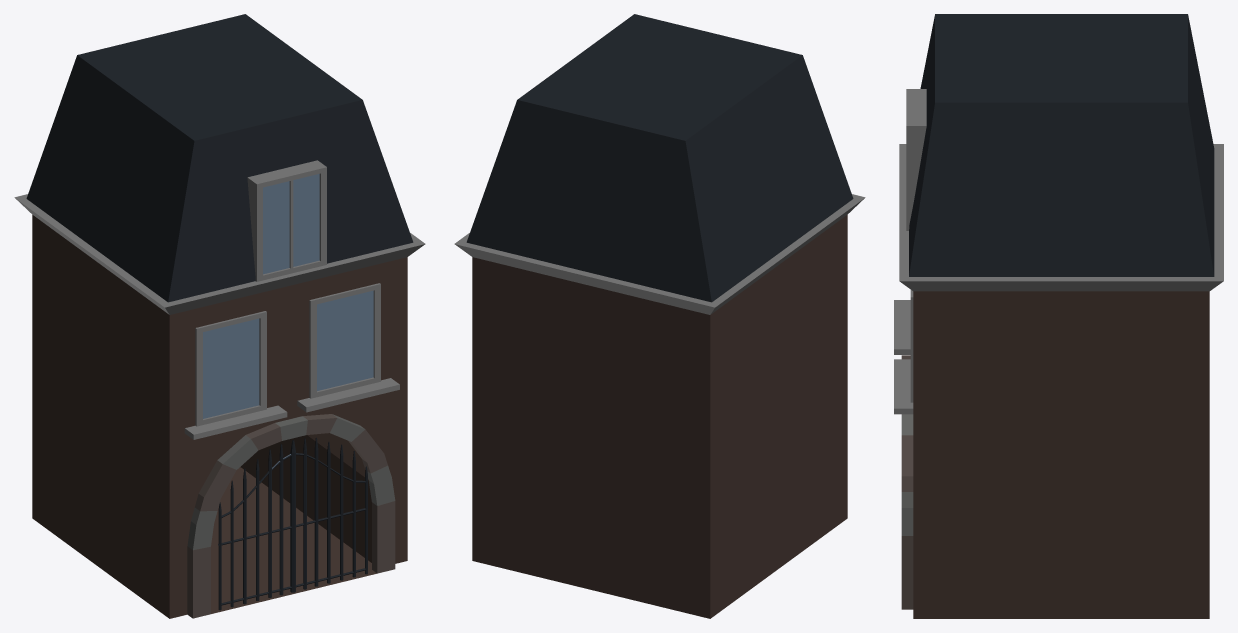
The model's file is House4Level3.fbx.
3 views of the same model, side by side, from view 1: azimuth 30°, elevation 25°; view 2: azimuth 150°, elevation 25°; view 3: azimuth 270°, elevation 25° (orthographic). The views are drawn at different scales.
Parts seen in each view (by area): view 1: House4Lvl3.001; view 2: House4Lvl3.001; view 3: House4Lvl3.001.
Boxes of the visible parts, left/top/right/bottom form: House4Lvl3.001: left=14, top=14, right=425, bottom=618; House4Lvl3.001: left=454, top=14, right=865, bottom=618; House4Lvl3.001: left=894, top=14, right=1223, bottom=618.
Size of the model in its own units: 76.54 by 130 by 77.75.
